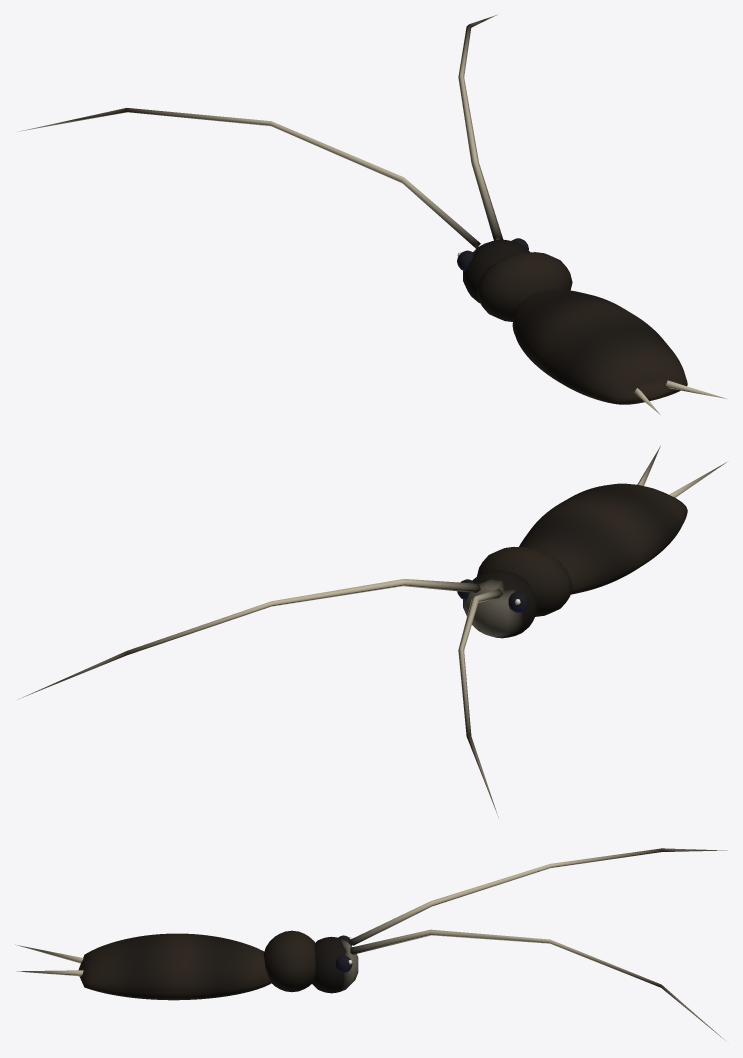
Rendered from Suzumushi.fbx.
The picture shows the model from 3 angles, top to bottom: view 1: azimuth 30°, elevation 25°; view 2: azimuth 150°, elevation 25°; view 3: azimuth 270°, elevation 25°; orthographic projection. The views are drawn at different scales.
Parts seen in each view (by area): view 1: Suzumushi; view 2: Suzumushi; view 3: Suzumushi.
Boxes of the visible parts, left/top/right/bottom form: Suzumushi: left=17, top=14, right=726, bottom=414; Suzumushi: left=17, top=445, right=726, bottom=817; Suzumushi: left=15, top=848, right=727, bottom=1041.
Size of the model in its own units: 1.15 by 0.246 by 1.8.
